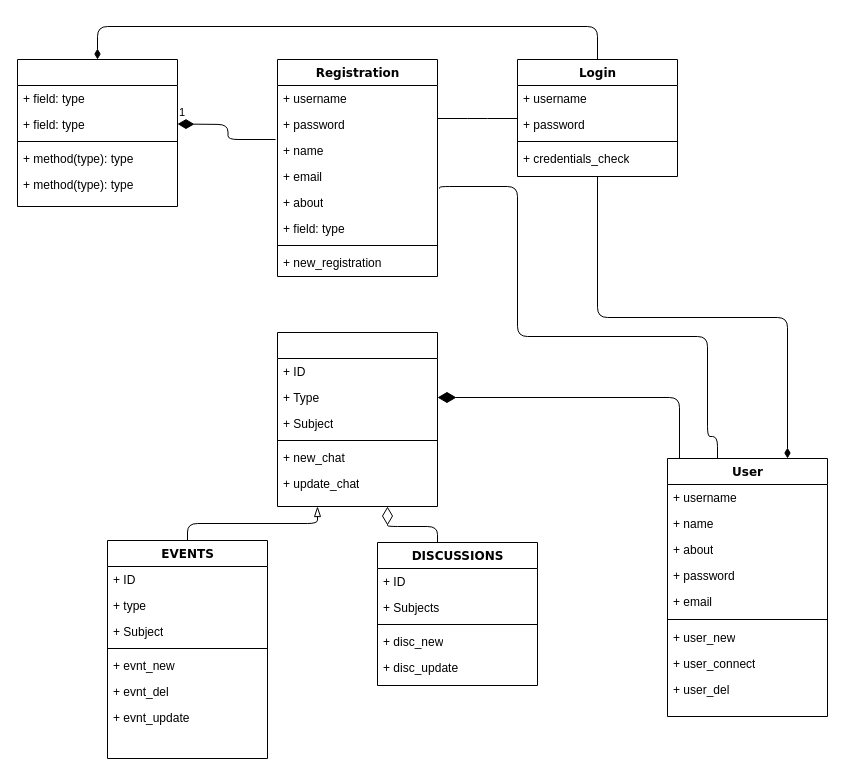
The diagram is 845 pixels wide and 776 high, and some of its shapes have lost their labels. Each missing label, with the box of its shape:
Authentication Service: (16, 58, 178, 206)
FORUMS/CHATS: (276, 332, 438, 506)
